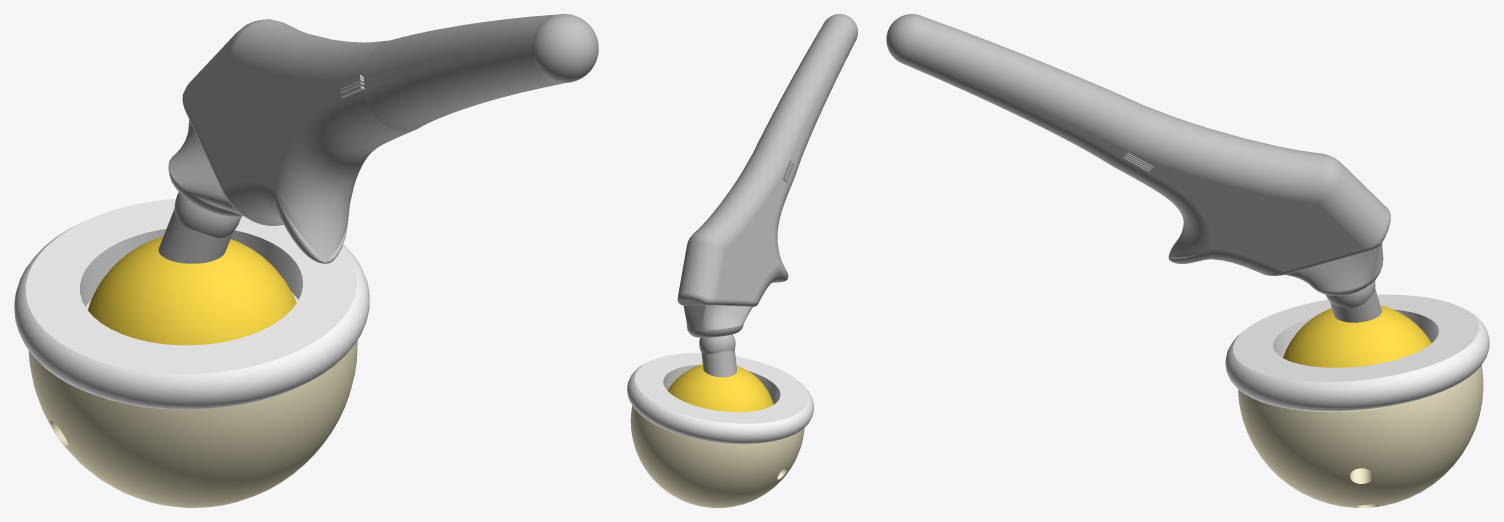
File: hip-implant.glb
The picture shows the model from 3 angles, left to right: view 1: azimuth 30°, elevation 25°; view 2: azimuth 150°, elevation 25°; view 3: azimuth 270°, elevation 25°; orthographic projection. The views are drawn at different scales.
Parts seen in each view (by area): view 1: Solid9, Solid1 (×3), Solid2, Solid5, Solid3; view 2: Solid9, Solid1 (×3), Solid2, Solid3, Solid5; view 3: Solid9, Solid1 (×3), Solid2, Solid5.
Boxes of the visible parts, box(x1,y1,x2,y2) form: Solid9: box(168, 14, 564, 263); Solid1 (×3): box(28, 208, 357, 507); Solid2: box(14, 199, 369, 409); Solid5: box(532, 14, 598, 82); Solid3: box(174, 192, 241, 237); Solid9: box(677, 20, 855, 337); Solid1 (×3): box(630, 349, 804, 507); Solid2: box(627, 353, 813, 443); Solid3: box(699, 334, 735, 353); Solid5: box(824, 14, 857, 40); Solid9: box(905, 16, 1390, 295); Solid1 (×3): box(1238, 288, 1483, 507); Solid2: box(1225, 294, 1489, 411); Solid5: box(886, 14, 925, 64).
Size of the model in its own units: 0.056 by 0.1181 by 0.1277.
